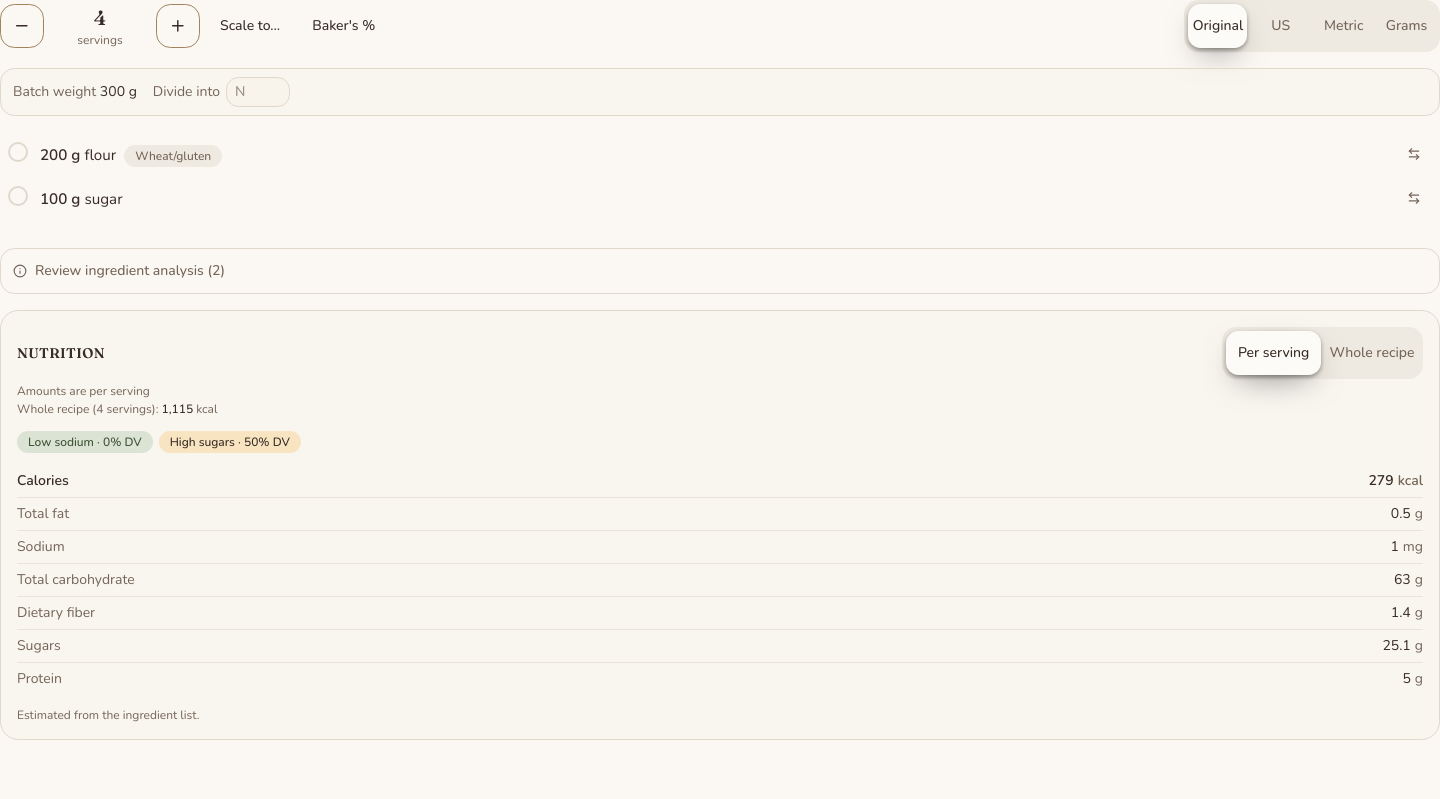
Scenario: IngredientsPanel display-time unit conversion › IngredientsPanel dietary evidence › shows exact evidence wording from a sibling control, not inside check-off
Expected: the button "200 g flour Wheat/gluten" is shown, top-left (0, 132), bottom-right (1388, 176)
Click the heading "Review ingredient analysis (2)": (119, 270) top-left (13, 261), bottom-right (225, 280)
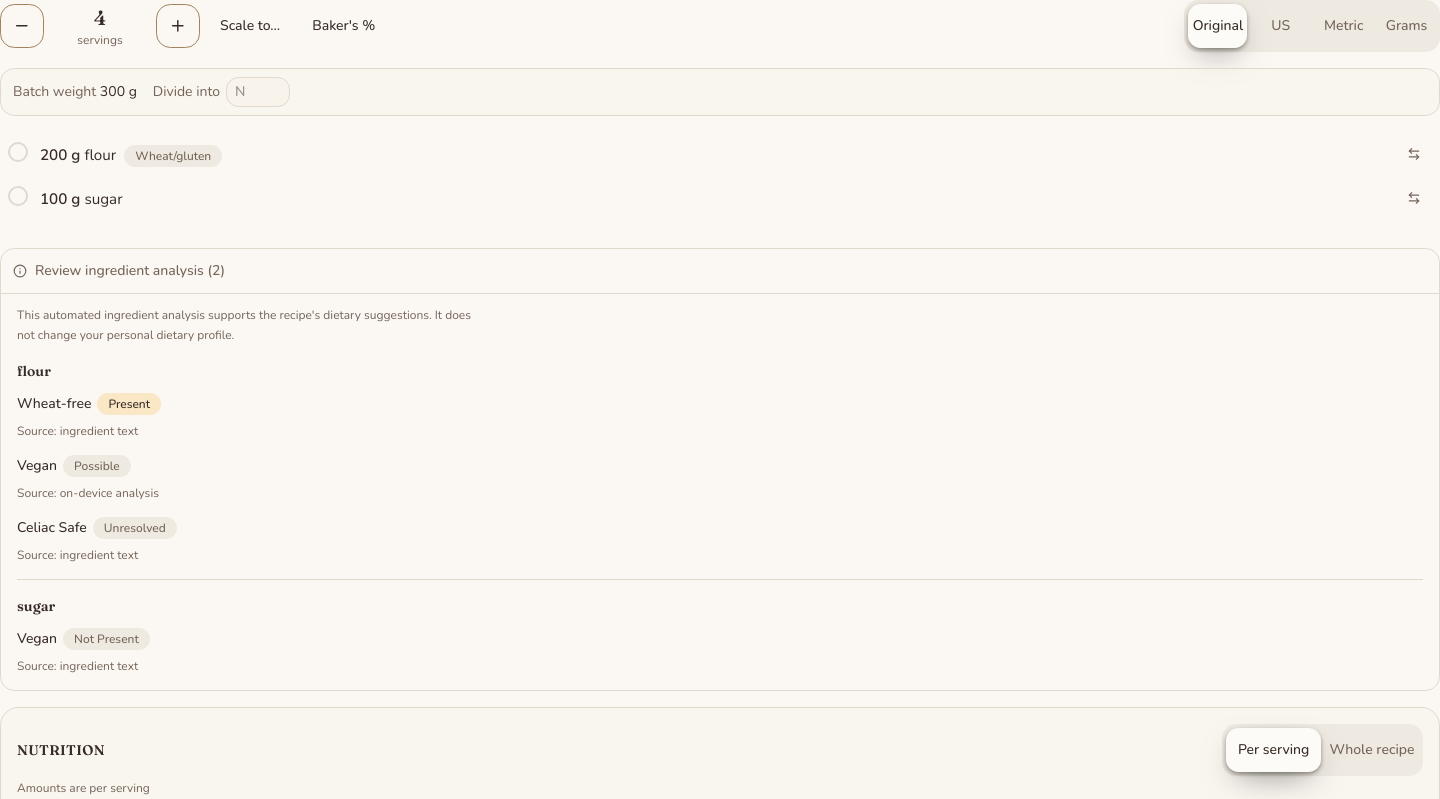
Result: the text "Present" is shown at top-left (97, 393), bottom-right (161, 415)
Result: the text "Possible" is shown at top-left (63, 455), bottom-right (131, 477)
Result: the text "Unresolved" is shown at top-left (93, 517), bottom-right (177, 539)
